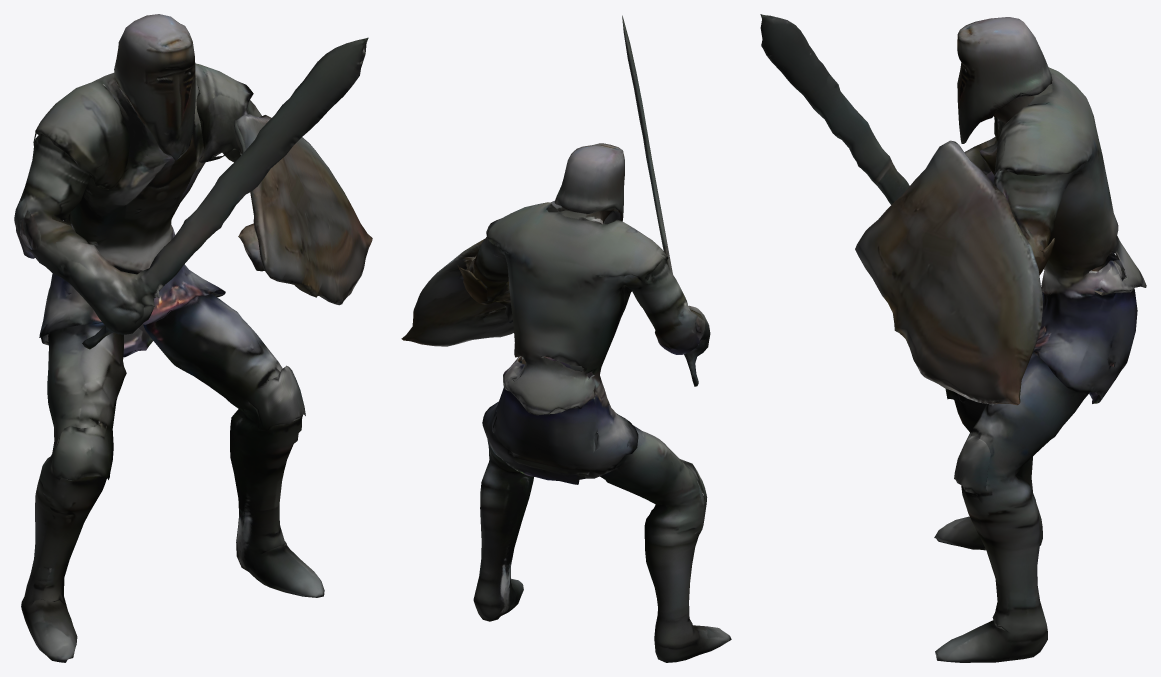
Rendered from 10_textured_frame_000000.glb.
3 views of the same model, side by side, from view 1: azimuth 30°, elevation 25°; view 2: azimuth 150°, elevation 25°; view 3: azimuth 270°, elevation 25° (orthographic). The views are drawn at different scales.
Visible parts, largest first — view 1: geometry_0; view 2: geometry_0; view 3: geometry_0.
Boxes of the visible parts, <box> form: geometry_0: <box>14,14,372,662</box>; geometry_0: <box>401,15,731,662</box>; geometry_0: <box>760,14,1146,662</box>.
Size of the model in its own units: 1.1 by 1.86 by 1.03.
Materials: 1 (1 with a texture image).
